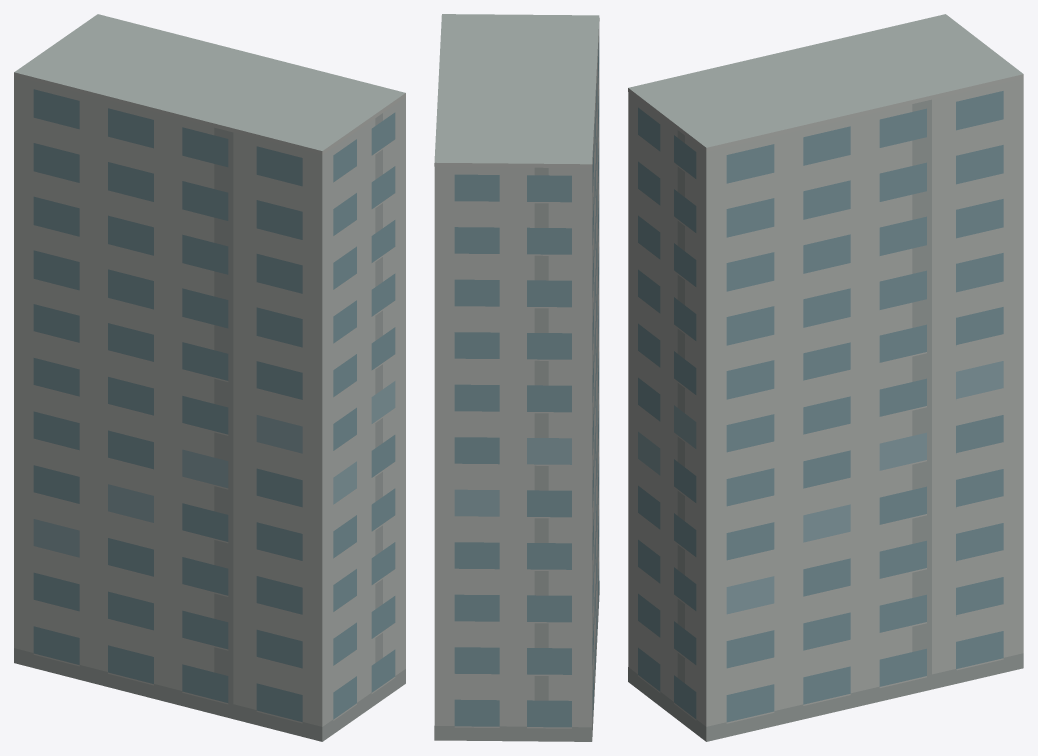
Rendered from residential-7e6231b6-d4fc-442a-8eb3-3aaee52900ec.glb.
The picture shows the model from 3 angles, left to right: view 1: azimuth 30°, elevation 25°; view 2: azimuth 150°, elevation 25°; view 3: azimuth 270°, elevation 25°; orthographic projection. The views are drawn at different scales.
Parts seen in each view (by area): view 1: residential-7e6231b6-d4fc-442a-8eb3-3aaee52900ec.tmp; view 2: residential-7e6231b6-d4fc-442a-8eb3-3aaee52900ec.tmp; view 3: residential-7e6231b6-d4fc-442a-8eb3-3aaee52900ec.tmp.
Part boxes in pixels (left/top/right/bottom): residential-7e6231b6-d4fc-442a-8eb3-3aaee52900ec.tmp: left=14, top=14, right=405, bottom=741; residential-7e6231b6-d4fc-442a-8eb3-3aaee52900ec.tmp: left=434, top=14, right=599, bottom=741; residential-7e6231b6-d4fc-442a-8eb3-3aaee52900ec.tmp: left=628, top=14, right=1023, bottom=741.
Bounding box in the file's own units: 16.92 × 35 × 21.13.
